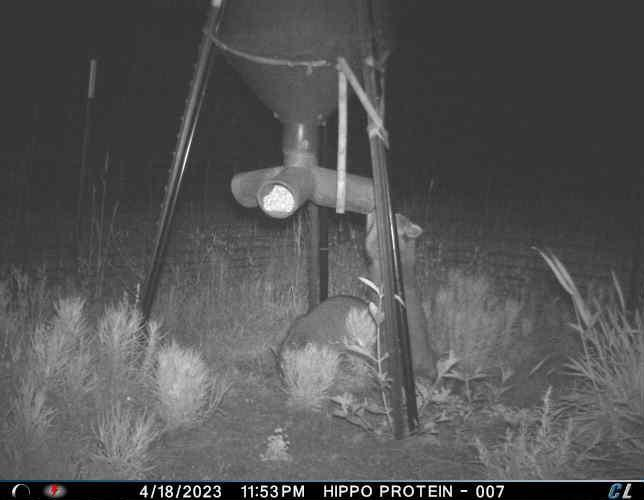Raccoon: (364, 204, 441, 386), (271, 291, 377, 389)
